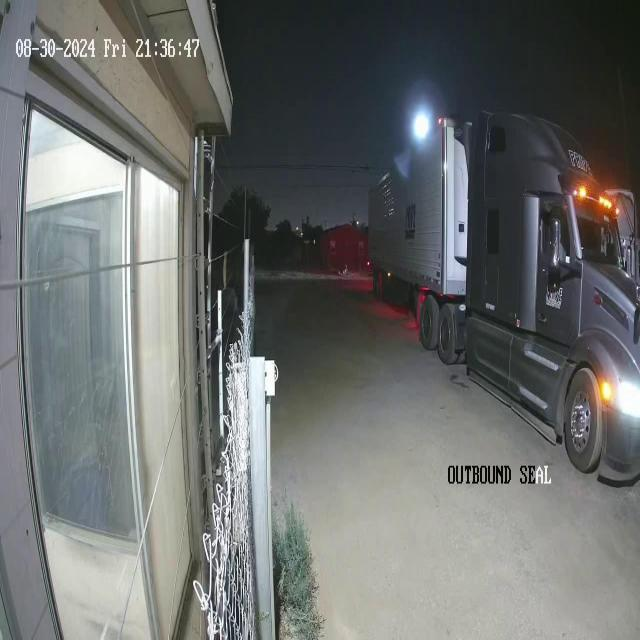TRUCK_CONTAINER: (367, 106, 639, 480)
